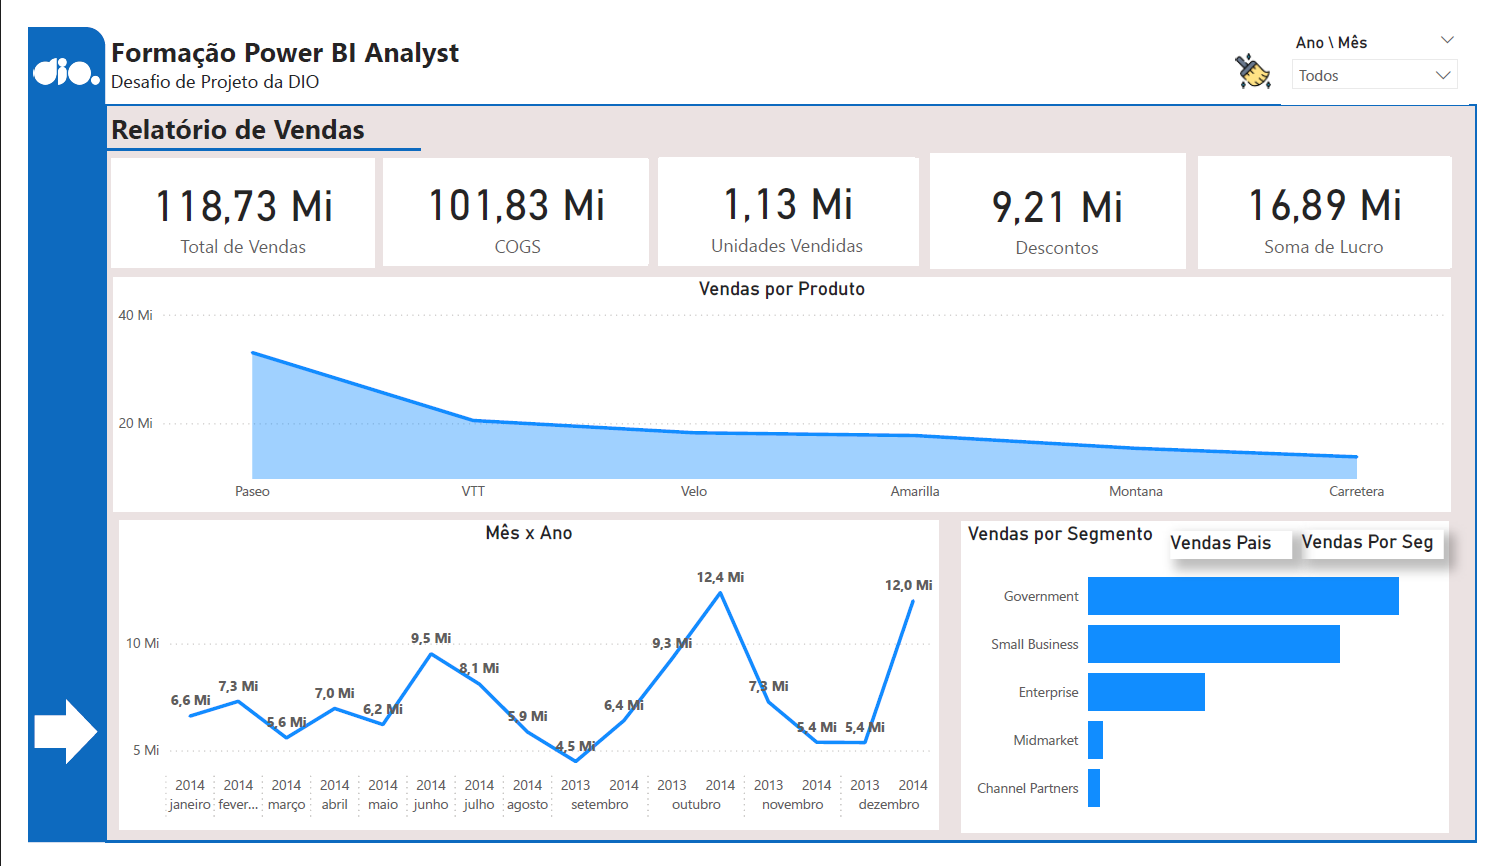

What the dashboard file says about the page in this screenshot:
{"tool":"powerbi","page":{"name":"Página 1","canvas":[1280,720],"ordinal":0},"visuals":[{"type":"shape","box":[0,0,68.1,719.8],"z":0,"group":"g2"},{"type":"textbox","box":[68.1,0,1211.9,88.5],"z":0},{"type":"actionButton","box":[1063.9,20.6,39.4,34.9],"z":0,"group":"g3"},{"type":"shape","box":[76,117.5,230.2,92.3],"z":0,"group":"g1"},{"type":"barChart","title":"Vendas por Segmento","fields":{"Category":["financials.Segmento"],"Y":["Sum(financials.Vendas)"]},"box":[825.1,437,430.1,274.9],"z":0,"group":"g4"},{"type":"image","title":"Dioppro","box":[0,0,68.1,77.8],"z":1000,"group":"g2"},{"type":"image","box":[1059.4,17.9,47.5,41.2],"z":1000,"group":"g3"},{"type":"shape","box":[68.1,68.1,1211.9,652.1],"z":1000},{"type":"shape","box":[318,117.5,230.2,92.3],"z":1000,"group":"g1"},{"type":"textbox","box":[68.1,68.1,266.3,43],"z":2000},{"type":"shape","box":[557.7,116.2,229.6,95.4],"z":2000,"group":"g1"},{"type":"actionButton","title":"Vendas Por Seg","box":[1124.7,443.8,126.6,26.2],"z":2000,"group":"g4"},{"type":"shape","title":"seta","box":[5.8,594.3,55.4,56.4],"z":2000,"group":"g2"},{"type":"shape","box":[68.1,88.1,278.9,39.8],"z":3000},{"type":"card","fields":{"Values":["Sum(financials. Sales)"]},"box":[74.4,116.2,231.7,96.4],"z":3000,"group":"g1"},{"type":"actionButton","title":"Vendas Pais","box":[1008.8,445,108.4,25.1],"z":3000,"group":"g4"},{"type":"group","id":"g1","title":"Cards","box":[74.4,112.4,1184.1,101.6],"z":4000},{"type":"card","fields":{"Values":["Sum(financials.COGS)"]},"box":[314.5,116.2,232.7,95.4],"z":4000,"group":"g1"},{"type":"slicer","fields":{"Values":["financials.Date.Variation.Hierarquia de datas.Mês"]},"box":[1107,0,165.6,68.1],"z":5000},{"type":"shape","box":[797.4,112.4,226.3,101.3],"z":5000,"group":"g1"},{"type":"shape","box":[1034.3,115.8,224.2,96.7],"z":6000,"group":"g1"},{"type":"areaChart","title":"Vendas por Produto","fields":{"Category":["financials.Produto"],"Y":["Sum(financials.Vendas)"]},"box":[75.5,221.2,1181.5,206.5],"z":6000},{"type":"card","fields":{"Values":["Sum(financials.Unidades Vendidas)"]},"box":[558.7,115.1,224.3,96.4],"z":7000,"group":"g1"},{"type":"lineChart","title":" Mês x Ano","fields":{"Y":["Sum(financials.Vendas)"],"Category":["financials.Date.Variation.Hierarquia de datas.Mês","financials.Date.Variation.Hierarquia de datas.Ano"]},"box":[80.7,436.1,723.3,272.6],"z":7000},{"type":"group","id":"g2","title":"layout","box":[0,0,68.1,719.8],"z":8000},{"type":"card","fields":{"Values":["Sum(financials.Discounts)"]},"box":[796.7,116.1,226.1,97.9],"z":8000,"group":"g1"},{"type":"group","id":"g3","title":"botão de limpar","box":[1059.4,17.9,47.5,41.2],"z":9000},{"type":"card","fields":{"Values":["Sum(financials.Lucro)"]},"box":[1034,114.1,222.1,98.9],"z":9000,"group":"g1"},{"type":"group","id":"g4","title":"Grupo 1","box":[825.1,437,433.5,274.9],"z":10000}]}

Visuals, with their boxes on the page's 1280x720 design canvas (x1, y1, x2, y2). These are canvas units, not pixel positions in the 1503x866 screenshot, which may show the page scaled, cropped or inside an application window:
shape: (x1=0, y1=0, x2=68, y2=720)
textbox: (x1=68, y1=0, x2=1280, y2=88)
actionButton: (x1=1064, y1=21, x2=1103, y2=56)
shape: (x1=76, y1=118, x2=306, y2=210)
"Vendas por Segmento" barChart: (x1=825, y1=437, x2=1255, y2=712)
"Dioppro" image: (x1=0, y1=0, x2=68, y2=78)
image: (x1=1059, y1=18, x2=1107, y2=59)
shape: (x1=68, y1=68, x2=1280, y2=720)
shape: (x1=318, y1=118, x2=548, y2=210)
textbox: (x1=68, y1=68, x2=334, y2=111)
shape: (x1=558, y1=116, x2=787, y2=212)
"Vendas Por Seg" actionButton: (x1=1125, y1=444, x2=1251, y2=470)
"seta" shape: (x1=6, y1=594, x2=61, y2=651)
shape: (x1=68, y1=88, x2=347, y2=128)
card - Sum(financials. Sales): (x1=74, y1=116, x2=306, y2=213)
"Vendas Pais" actionButton: (x1=1009, y1=445, x2=1117, y2=470)
"Cards" group: (x1=74, y1=112, x2=1258, y2=214)
card - Sum(financials.COGS): (x1=314, y1=116, x2=547, y2=212)
slicer - financials.Date.Variation.Hierarquia de datas.Mês: (x1=1107, y1=0, x2=1273, y2=68)
shape: (x1=797, y1=112, x2=1024, y2=214)
shape: (x1=1034, y1=116, x2=1258, y2=212)
"Vendas por Produto" areaChart: (x1=76, y1=221, x2=1257, y2=428)
card - Sum(financials.Unidades Vendidas): (x1=559, y1=115, x2=783, y2=212)
" Mês x Ano" lineChart: (x1=81, y1=436, x2=804, y2=709)
"layout" group: (x1=0, y1=0, x2=68, y2=720)
card - Sum(financials.Discounts): (x1=797, y1=116, x2=1023, y2=214)
"botão de limpar" group: (x1=1059, y1=18, x2=1107, y2=59)
card - Sum(financials.Lucro): (x1=1034, y1=114, x2=1256, y2=213)
"Grupo 1" group: (x1=825, y1=437, x2=1259, y2=712)
